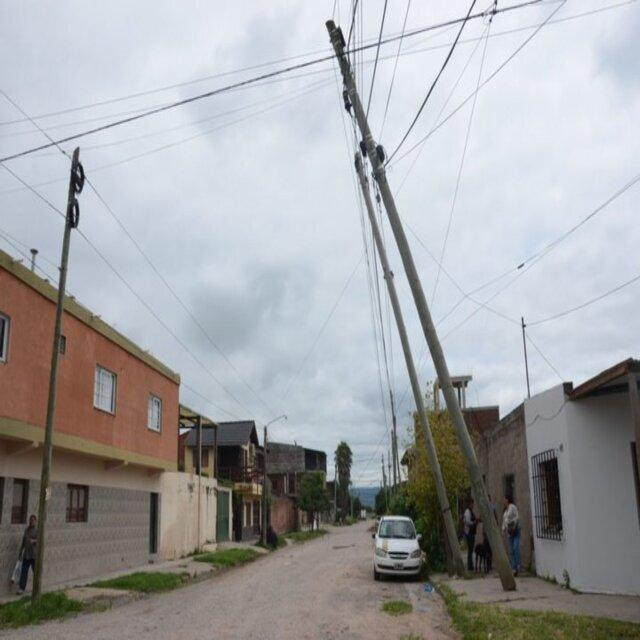Inclined Pole: (323, 17, 522, 589), (351, 150, 468, 573)
